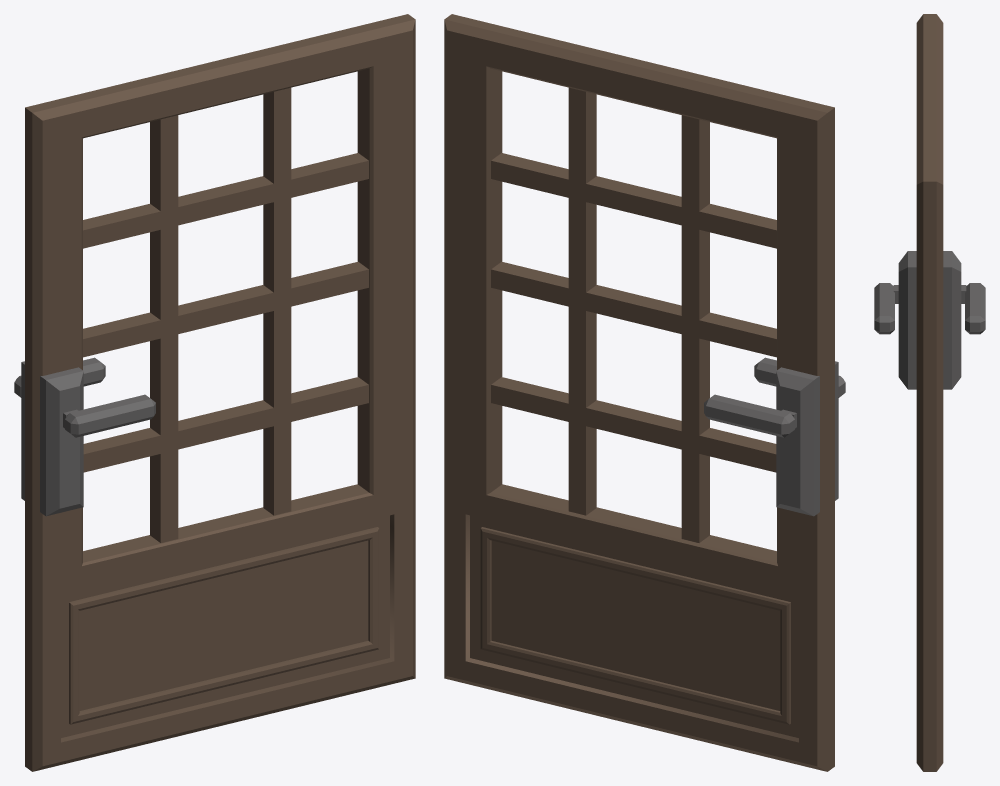
Rendered from Door.fbx.
3 views of the same model, side by side, from view 1: azimuth 30°, elevation 25°; view 2: azimuth 150°, elevation 25°; view 3: azimuth 270°, elevation 25° (orthographic). The views are drawn at different scales.
Visible parts, largest first — view 1: Door1; view 2: Door1; view 3: Door1.
Boxes of the visible parts, x1,y1,x2,y2 form: Door1: (14, 14, 415, 771); Door1: (444, 14, 845, 771); Door1: (874, 14, 985, 771).
Bounding box in the file's own units: 125 × 205 × 34.95.
